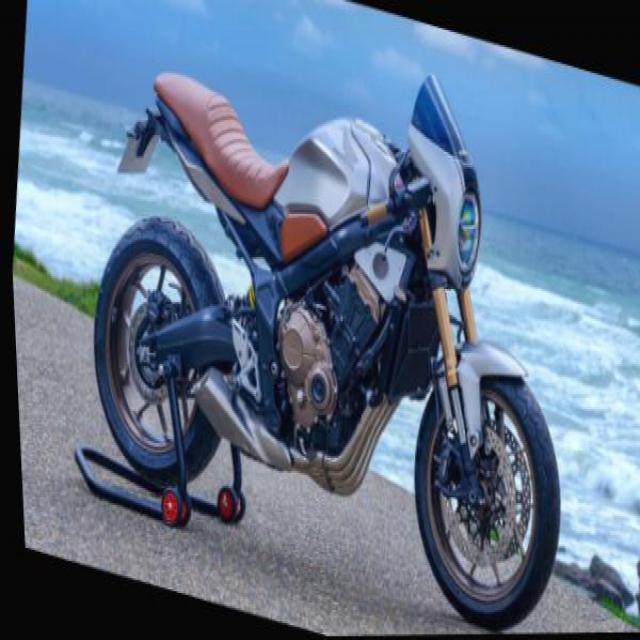CB650R: (61, 0, 602, 638)
